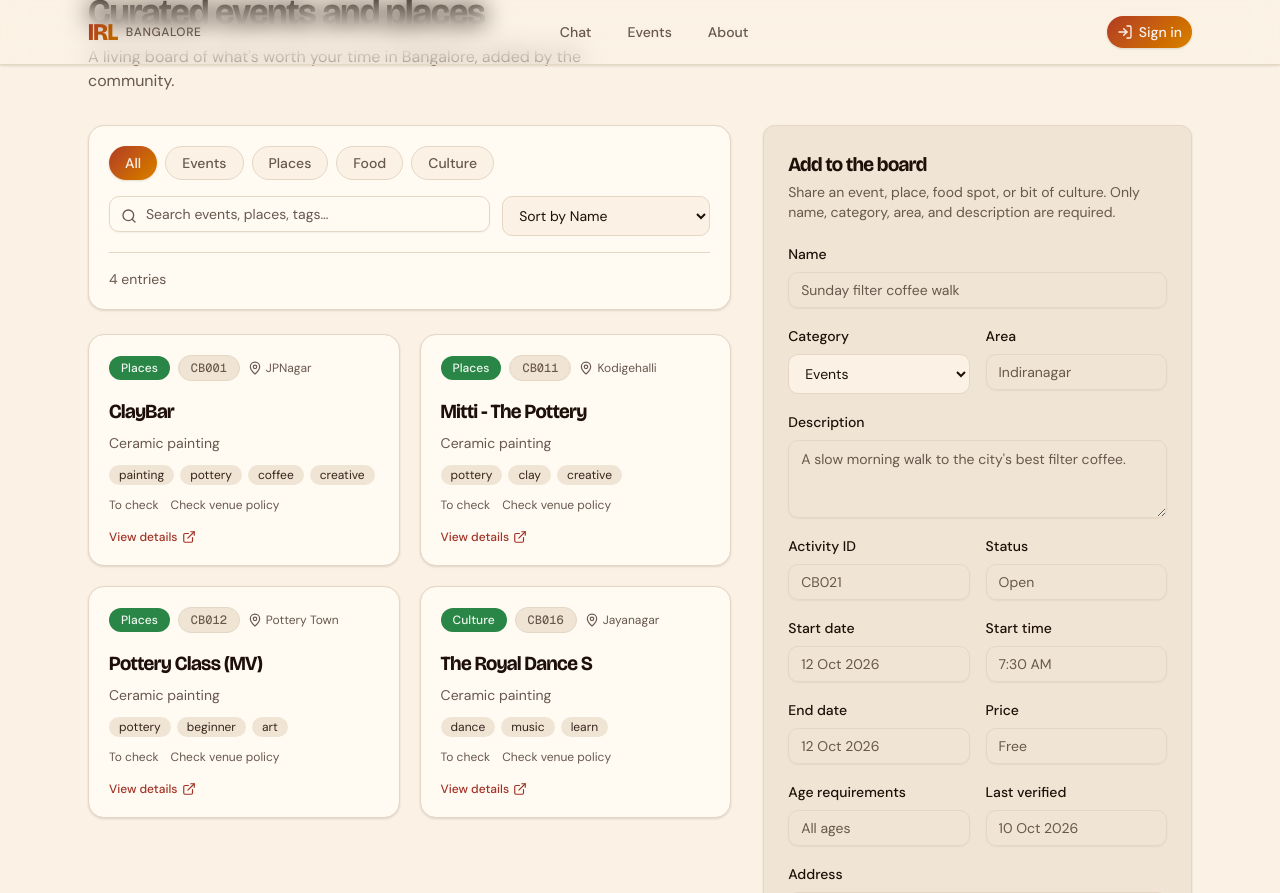
Test: IRL board detail view › opens a detail dialog showing address, price, age, last verified, and status
The image size is (1280, 893).
(page scrolled)
Click the button with test id "events.card.1". click: x=139, y=368
box: 88,334 -> 400,566
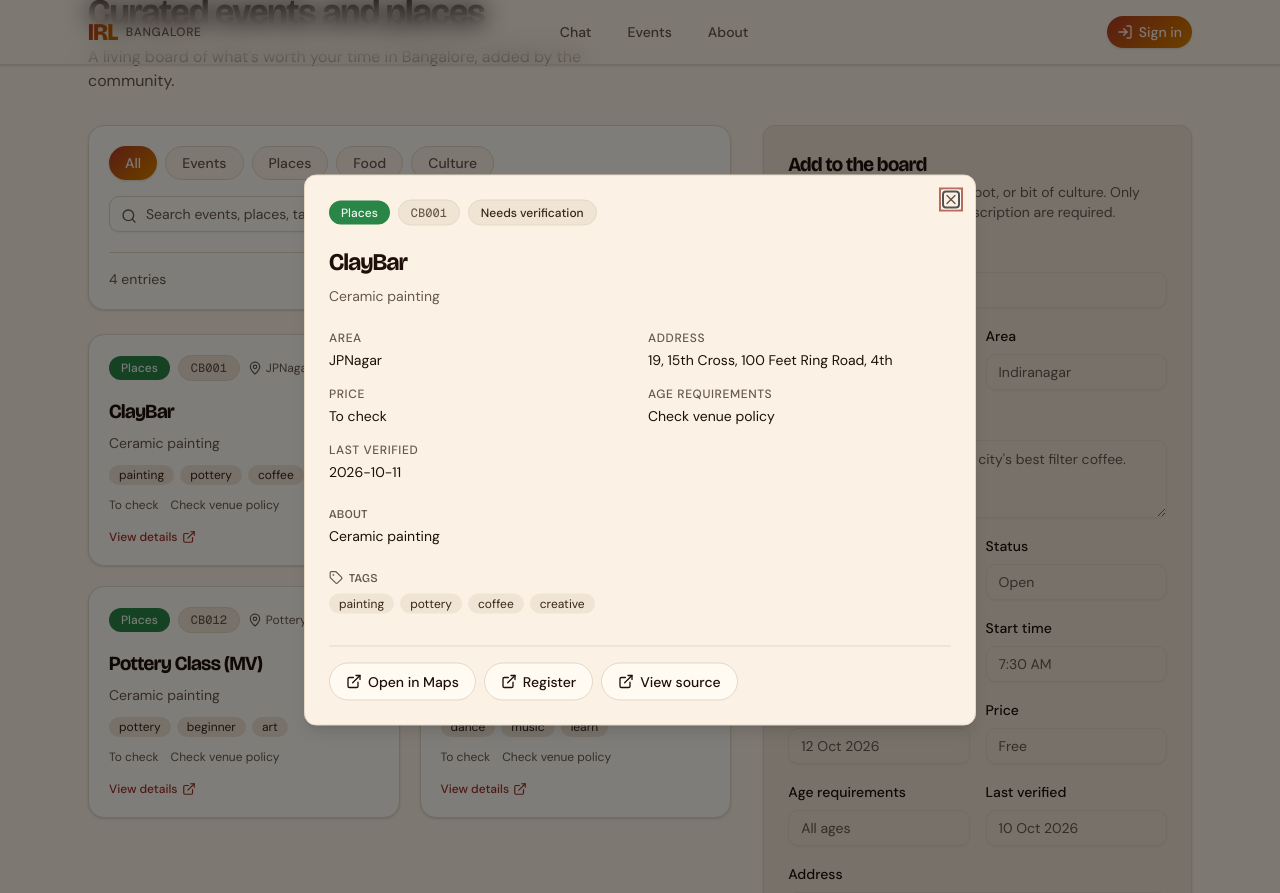
Now the heading "ClayBar" is shown, box 329,248 -> 407,276
Now the text "19, 15th Cross, 100 Feet Ring Road, 4th" is shown, box 648,350 -> 893,368
Now the text "To check" is shown, box 329,406 -> 387,424
